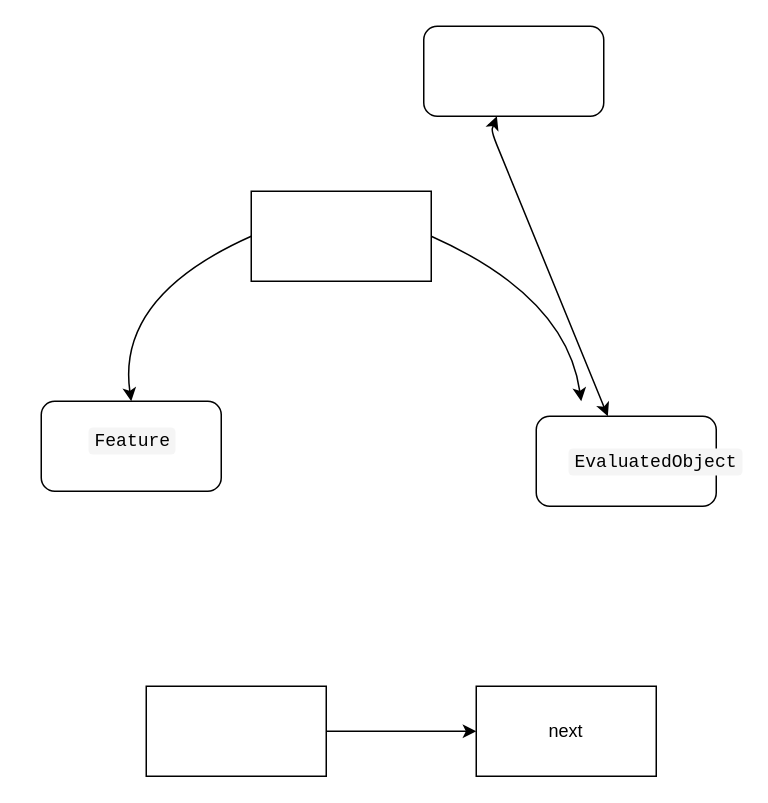
The diagram is 768 pixels wide and 803 high, and some of its shapes have lost their labels. Each missing label, with the centre of its shape:
"Classes" goes at pixel 340 235.
"Node" goes at pixel 235 730.
